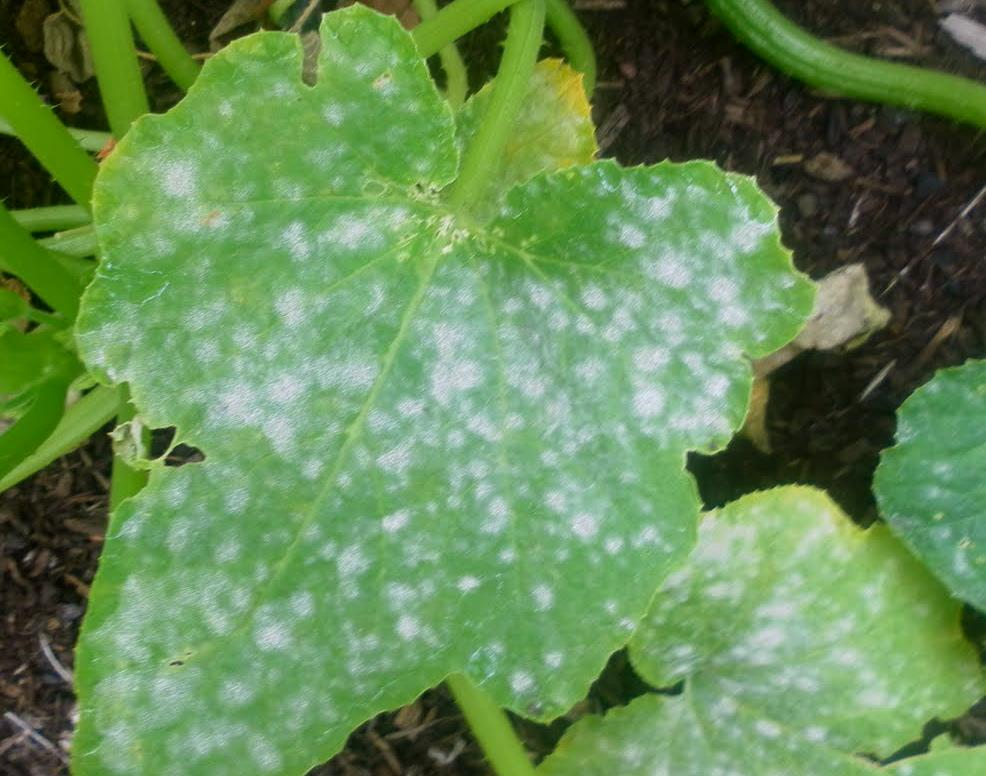Squash Powdery mildew leaf: (62, 14, 829, 776)
